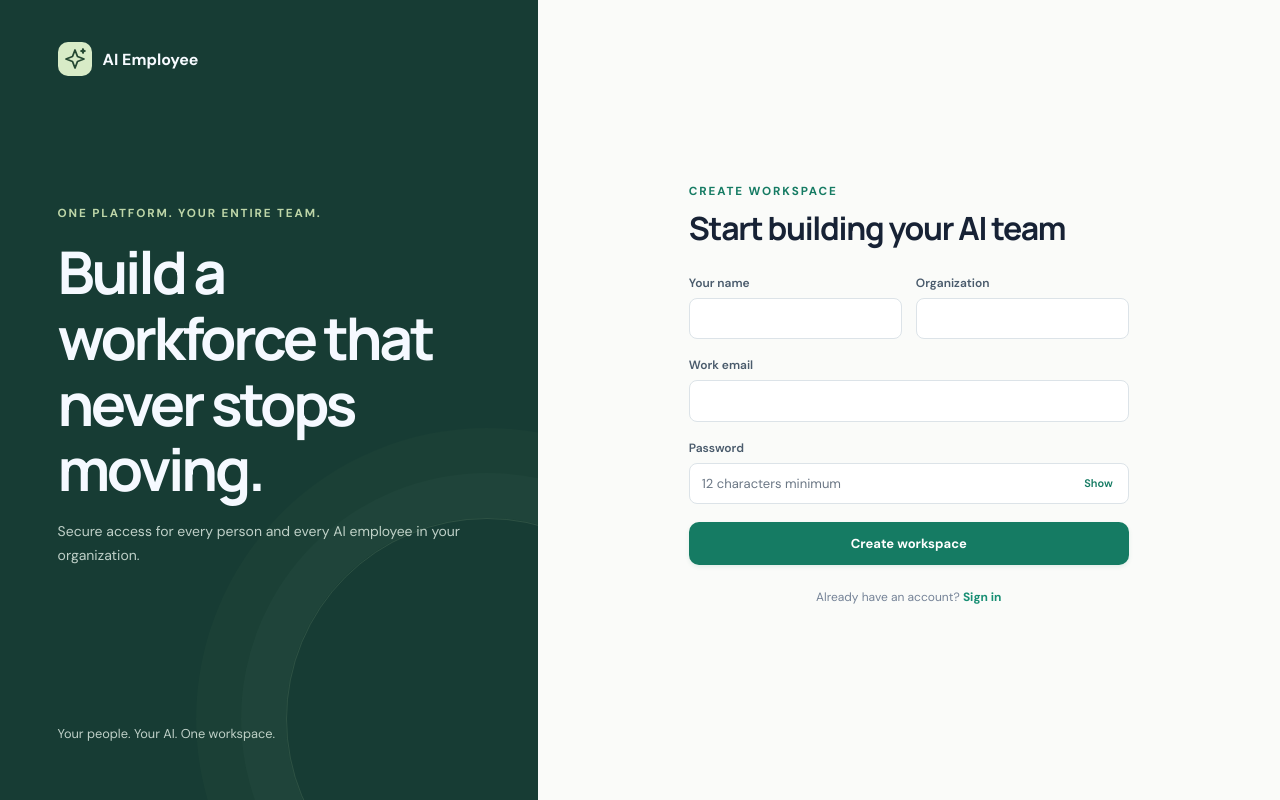
it: authentication UI › registers a workspace and shows the verification message
The width and height of the screenshot is (1280, 800).
Type "Abaid" into the field labelled "Your name" at (795, 318), box [689,298,902,339]
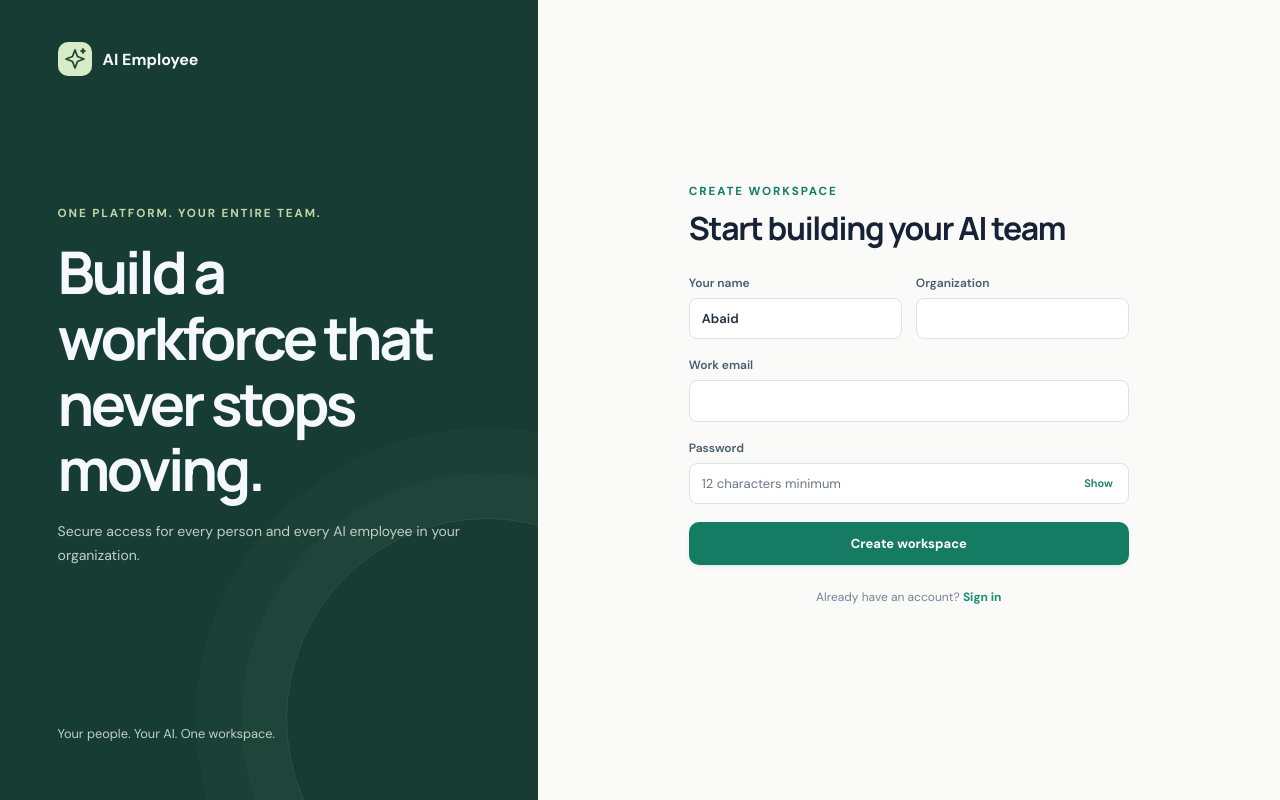
Type "AI Company" into the field labelled "Organization" at (1022, 318), box [916,298,1129,339]
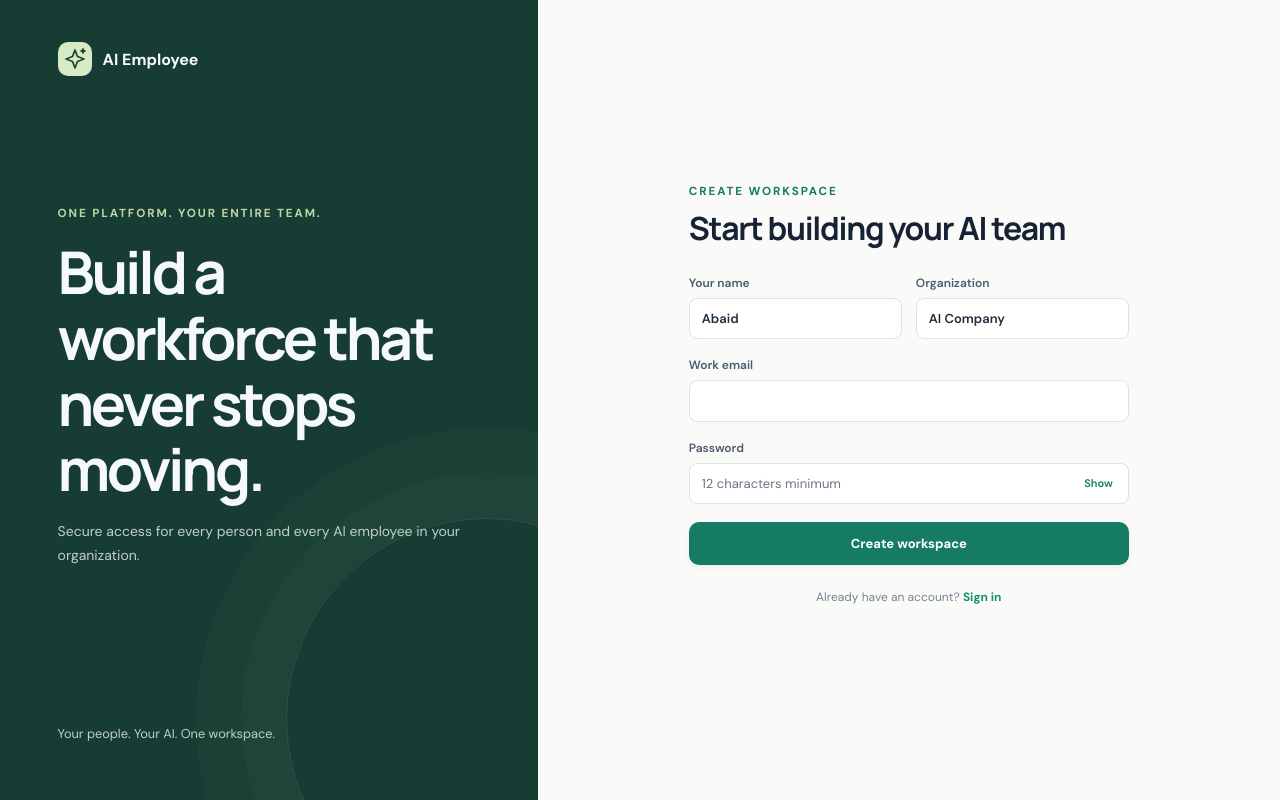
Type "owner@example.com" into the field labelled "Work email" at (909, 401), box [689,380,1129,422]
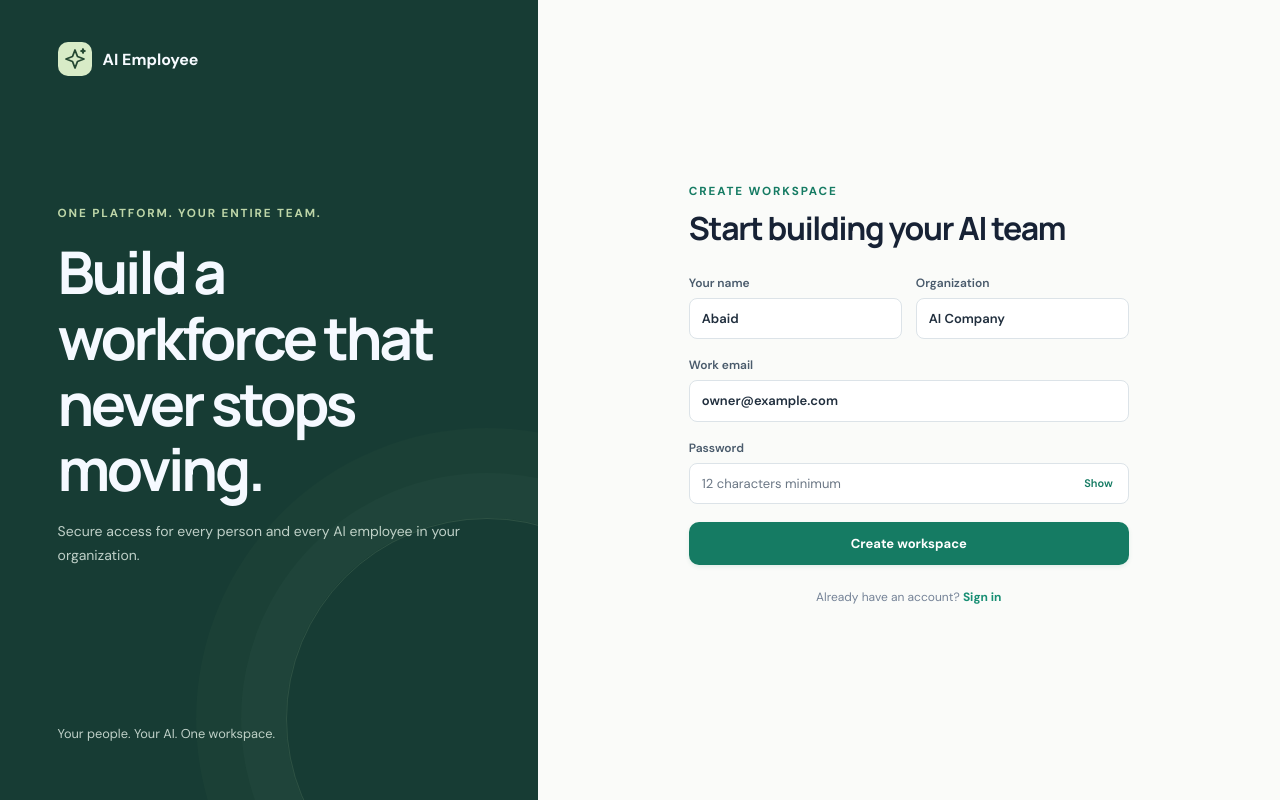
Type "VerySecure123!" into the password field labelled "Password" at (909, 483), box [689,463,1129,504]
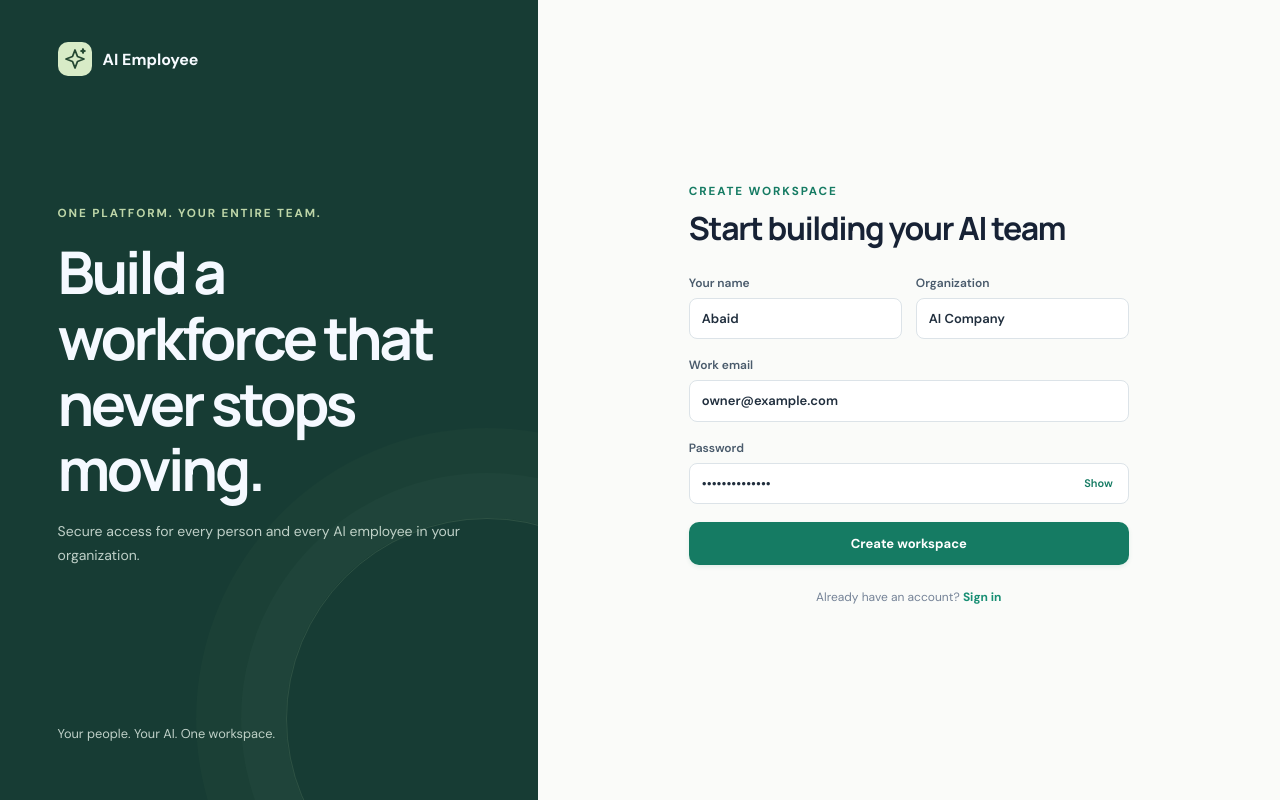
Click the button "Create workspace" at (909, 544), box [689,522,1129,565]
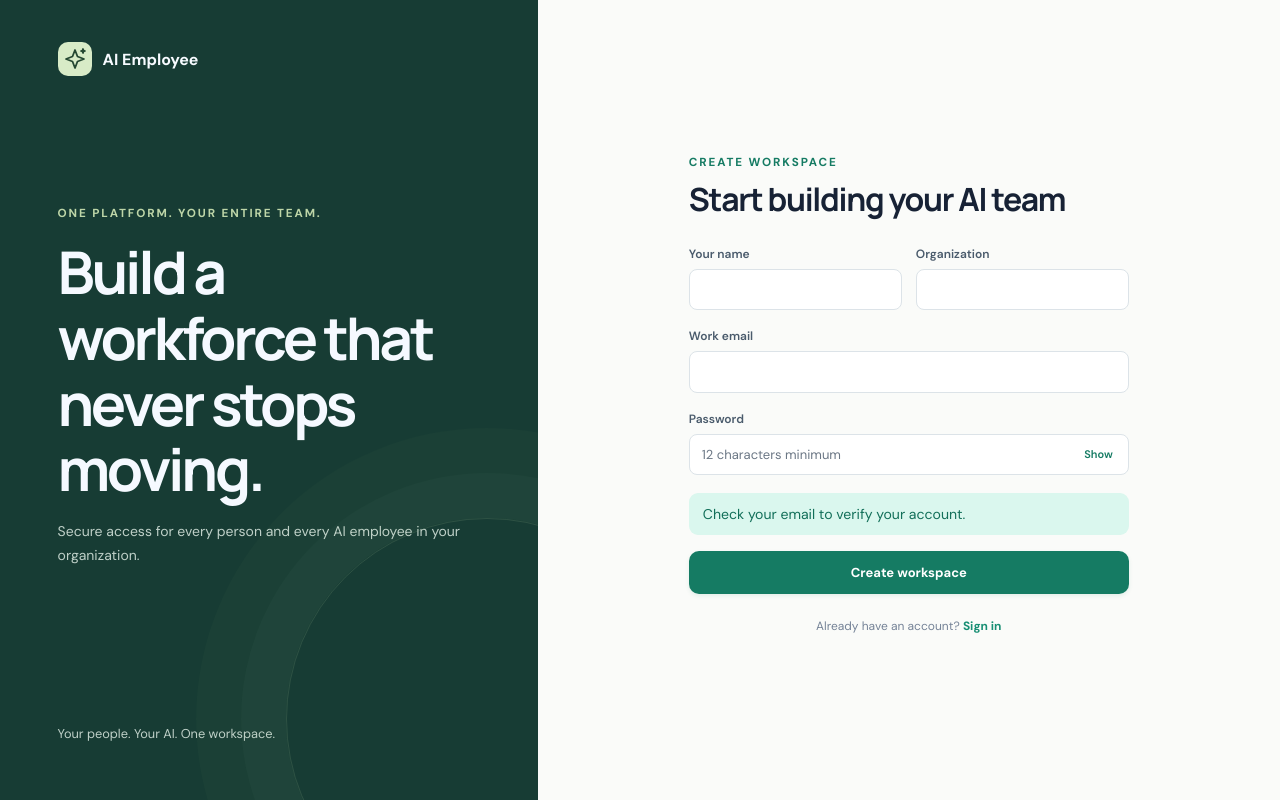
Expected: the text "Check your email to verify your account." is shown, [689,493,1129,535]
